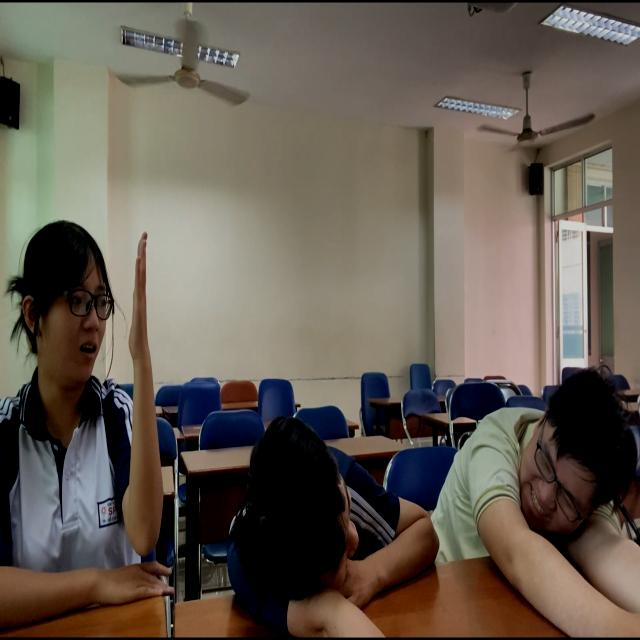raise_hand: (1, 183, 184, 640)
sleep: (435, 354, 640, 640), (194, 408, 453, 632)
